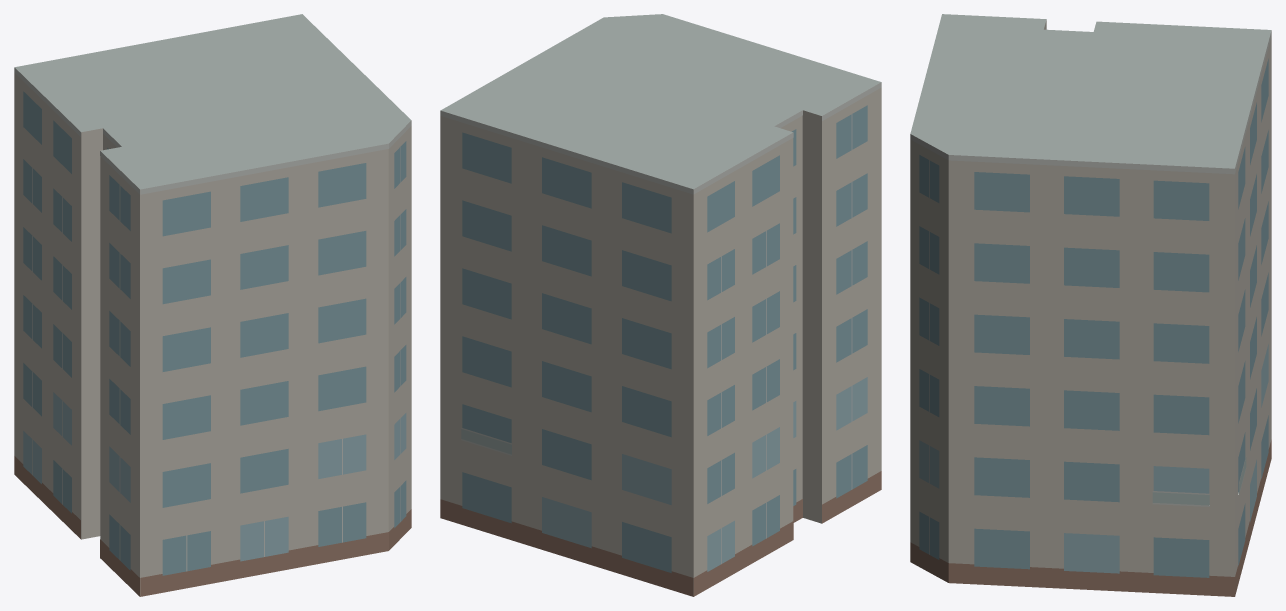
File: survey-upis-32565283.glb
The picture shows the model from 3 angles, left to right: view 1: azimuth 30°, elevation 25°; view 2: azimuth 150°, elevation 25°; view 3: azimuth 270°, elevation 25°; orthographic projection. The views are drawn at different scales.
Visible parts, largest first — view 1: survey-upis-32565283.tmp; view 2: survey-upis-32565283.tmp; view 3: survey-upis-32565283.tmp.
Part boxes in pixels (<box>): survey-upis-32565283.tmp: <box>14,14,411,596</box>; survey-upis-32565283.tmp: <box>440,14,881,596</box>; survey-upis-32565283.tmp: <box>910,14,1271,596</box>.
Bounding box in the file's own units: 14.66 × 18.9 × 14.47.
